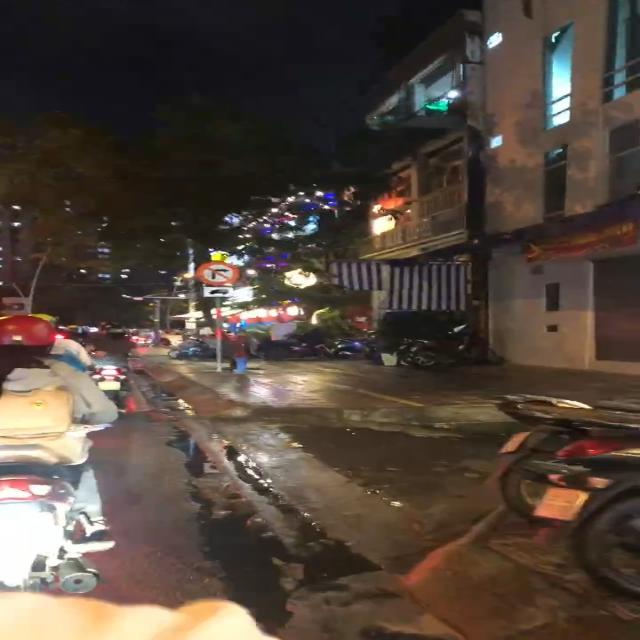Bien bao cam re phai: (191, 258, 243, 284)
